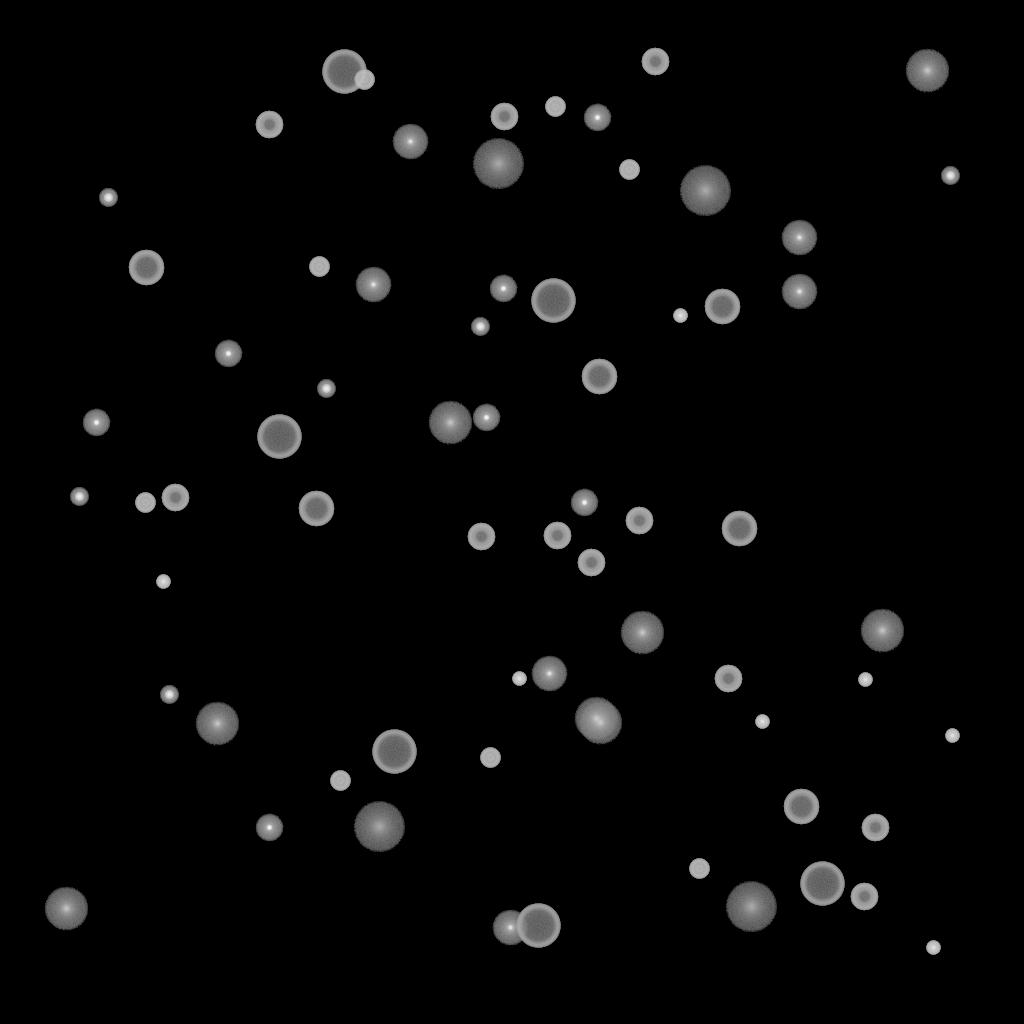depth:-10: (214, 340, 242, 368), (583, 104, 611, 132), (570, 489, 598, 517), (472, 404, 500, 432), (82, 409, 110, 437), (255, 814, 283, 842), (489, 275, 517, 303)
depth:-20: (317, 380, 335, 398), (160, 686, 178, 704), (471, 318, 489, 336), (70, 488, 88, 506), (99, 189, 117, 207), (941, 167, 959, 185)
depth:-30: (945, 729, 959, 743), (673, 309, 687, 323), (926, 941, 940, 955), (858, 673, 872, 687), (156, 575, 170, 589), (512, 672, 526, 686), (755, 715, 769, 729)
depth:-40: (330, 771, 350, 791), (354, 70, 374, 90), (619, 160, 639, 180), (480, 748, 500, 768), (135, 493, 155, 513), (689, 859, 709, 879), (309, 257, 329, 277), (545, 97, 565, 117)
depth:-50: (577, 549, 605, 577), (641, 48, 669, 76), (490, 103, 518, 131), (714, 665, 742, 693), (543, 522, 571, 550), (625, 507, 653, 535), (850, 883, 878, 911), (255, 111, 283, 139), (467, 523, 495, 551), (161, 484, 189, 512), (861, 814, 889, 842)
depth:-60: (298, 491, 334, 527), (721, 511, 757, 547), (704, 289, 740, 325), (783, 789, 819, 825), (128, 250, 164, 286), (581, 359, 617, 395)
depth:-70: (516, 904, 560, 948), (322, 50, 366, 94), (800, 862, 844, 906), (531, 279, 575, 323), (257, 415, 301, 459), (372, 730, 416, 774)
depth:0: (492, 910, 528, 946), (355, 267, 391, 303), (531, 656, 567, 692), (781, 220, 817, 256), (781, 274, 817, 310), (392, 124, 428, 160)
depth:10: (574, 697, 618, 741), (860, 609, 904, 653), (905, 49, 949, 93), (578, 701, 622, 745), (195, 702, 239, 746), (44, 887, 88, 931), (428, 401, 472, 445), (620, 611, 664, 655)
depth:20: (725, 882, 777, 932), (353, 802, 405, 852), (472, 139, 524, 189), (679, 166, 731, 216)
